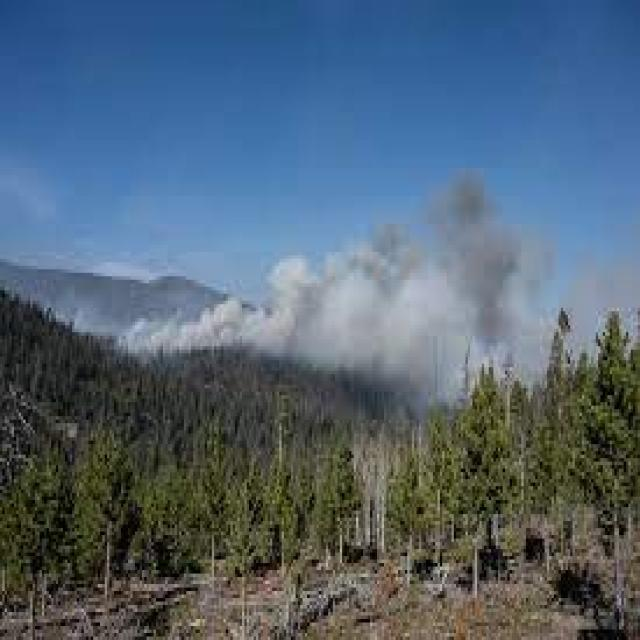Smoke: (117, 160, 546, 416)
